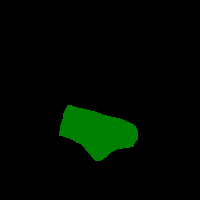mutande: (59, 104, 138, 161)
